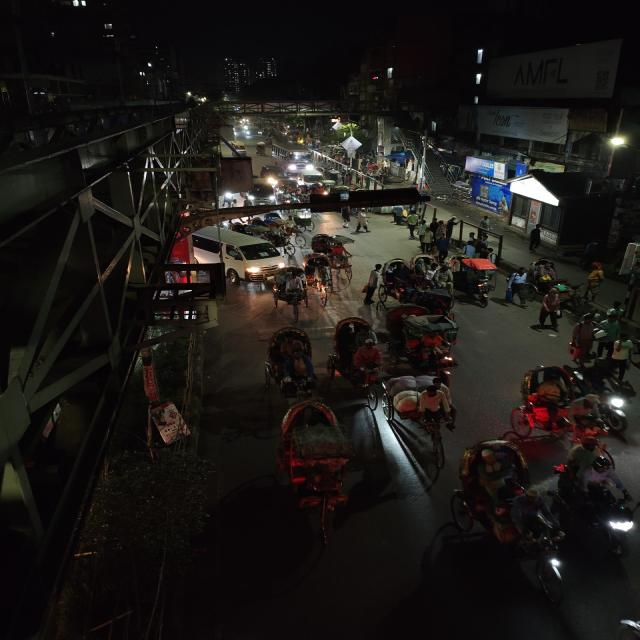bus: (271, 141, 315, 173)
car: (186, 224, 288, 284)
motorcycle: (560, 478, 640, 559), (578, 361, 639, 439)
pedestrian: (568, 312, 601, 367), (537, 287, 571, 331), (605, 336, 638, 380), (362, 261, 389, 307), (504, 268, 528, 306), (392, 205, 418, 240), (584, 263, 607, 299), (352, 209, 373, 235), (435, 232, 453, 262), (607, 298, 626, 326), (418, 224, 436, 253), (464, 230, 481, 260), (389, 204, 409, 229), (404, 210, 420, 240), (338, 206, 354, 228)
rickshaw: (447, 434, 568, 590), (270, 396, 364, 545), (510, 362, 605, 448), (366, 374, 460, 448), (258, 323, 319, 404), (394, 310, 467, 375), (324, 314, 385, 389), (266, 266, 312, 312), (306, 255, 338, 307), (310, 232, 354, 269), (263, 216, 304, 248)
